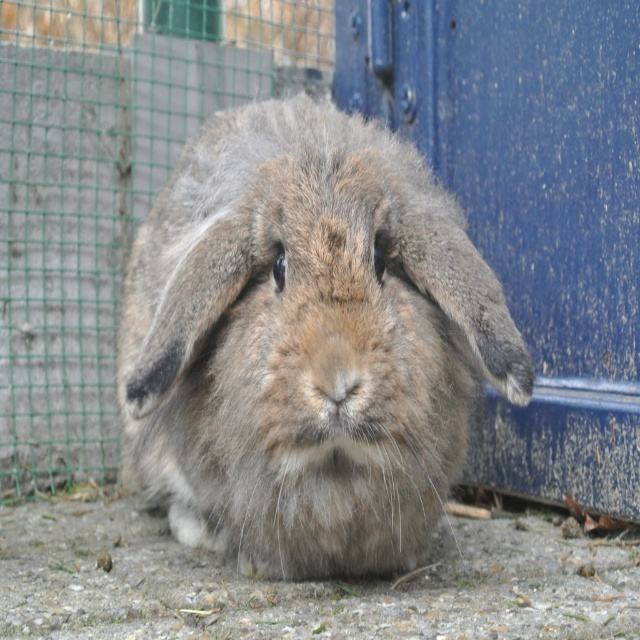Rabbit: (110, 81, 536, 586)
